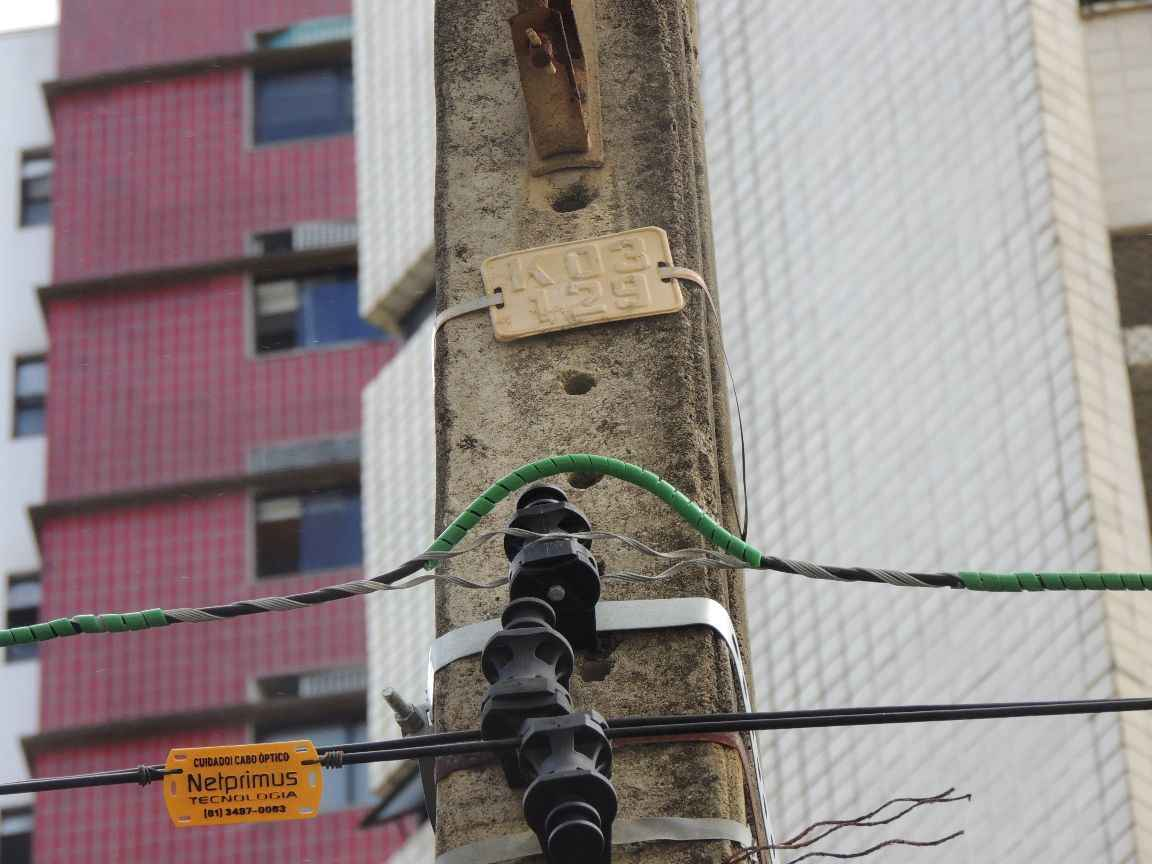fibra_optica: (302, 434, 797, 632), (152, 722, 330, 829)
poste: (437, 3, 755, 864)
